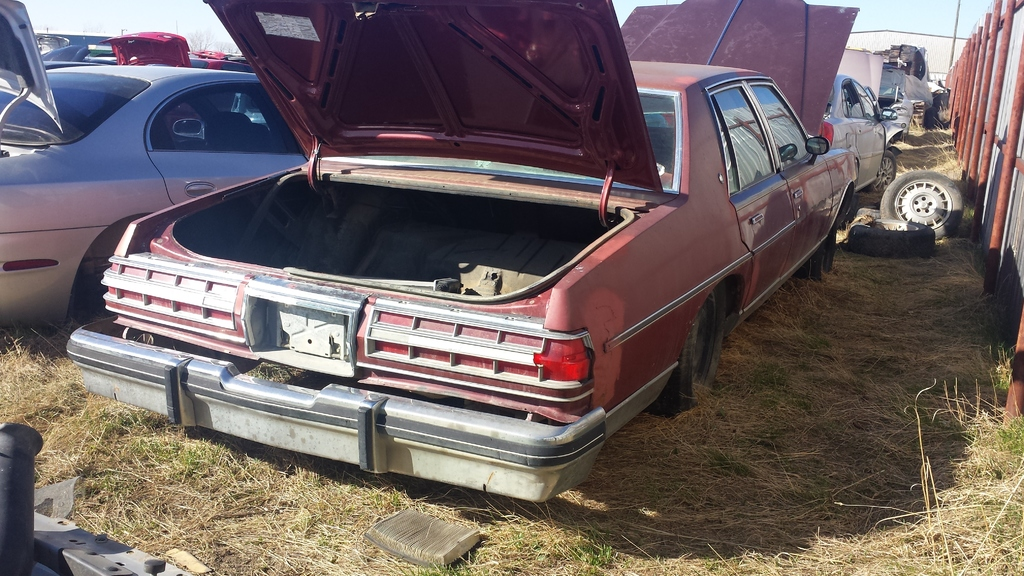cars: (61, 0, 860, 502), (0, 0, 306, 330), (828, 77, 893, 192), (880, 72, 912, 145)
